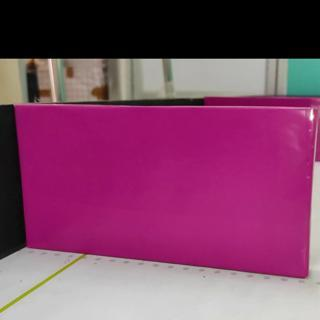xparking: (23, 105, 311, 278)
